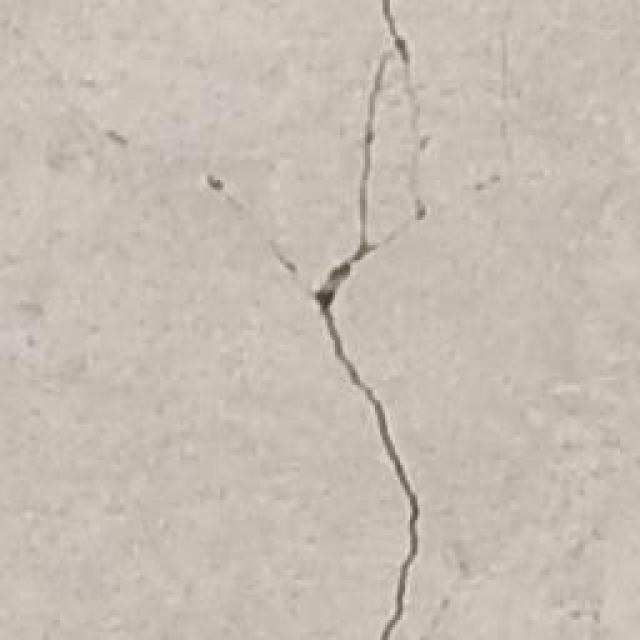concrete-crack: (205, 0, 425, 640)
